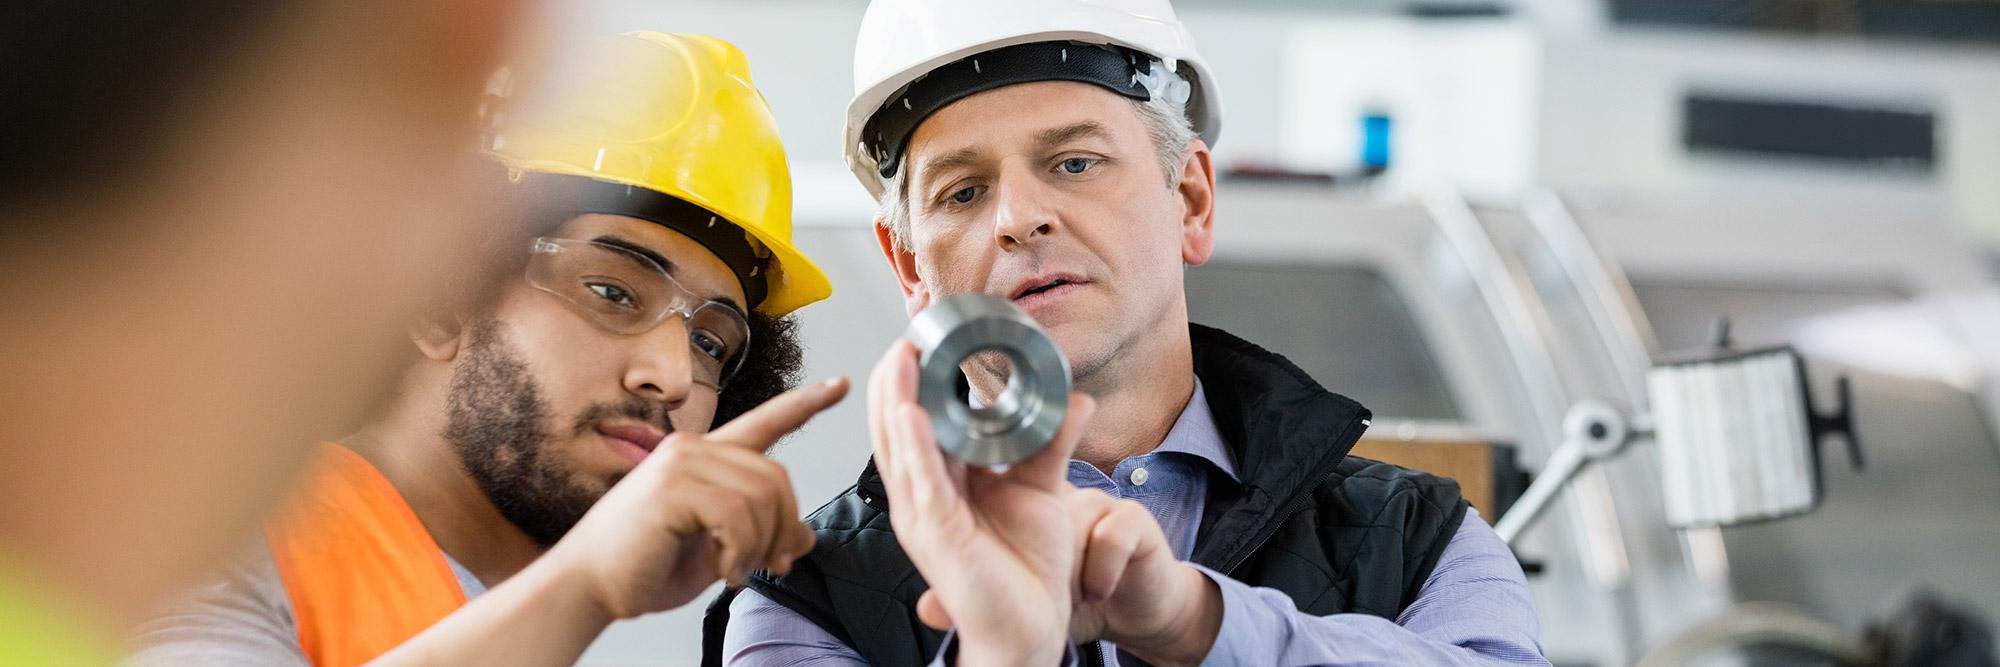helmet: (458, 24, 818, 312), (844, 1, 1249, 199)
